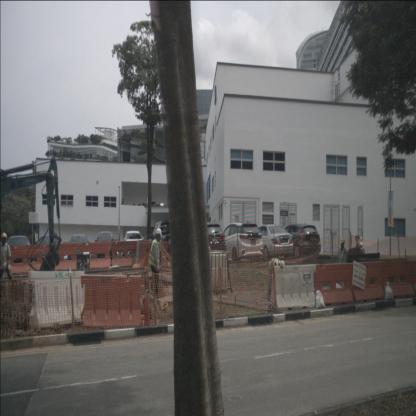movable_object-barrier: (29, 271, 85, 325), (85, 275, 141, 328), (45, 242, 111, 272), (273, 266, 315, 308), (316, 264, 352, 304), (384, 260, 416, 299), (4, 245, 45, 275), (353, 262, 384, 300), (111, 241, 149, 269)
movable_object-trafficcone: (144, 294, 152, 327)
vehicle-car: (216, 222, 263, 262), (248, 224, 294, 260), (278, 224, 321, 258), (192, 223, 226, 256), (4, 235, 32, 271), (37, 235, 61, 267), (69, 235, 89, 267), (96, 232, 115, 263), (125, 230, 142, 260)
vehicle-motorcycle: (348, 235, 365, 259)
vehicle-truck: (150, 220, 183, 253)
